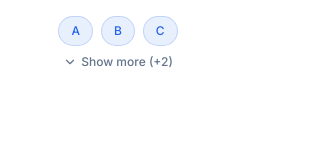
Test: SuggestedPromptChips › re-collapses after clicking "Show less"
Click the button "Show more (+2)" at (118,62), box x1=63 y1=54 x2=173 y2=70
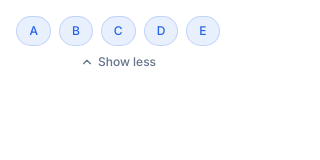
Click the button "Show less" at (118,62), box x1=80 y1=54 x2=156 y2=70
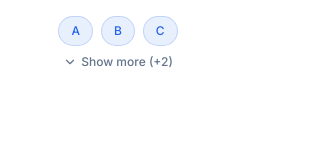
Expected: the button "D" is gone
